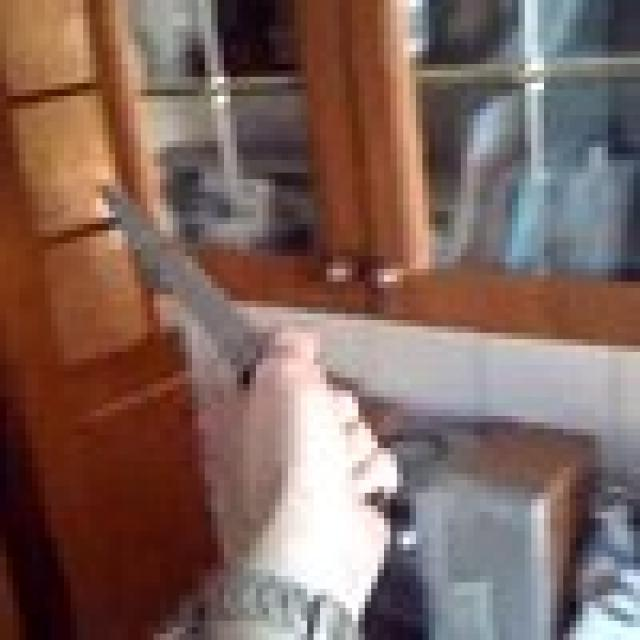Knife: (90, 180, 422, 550)
